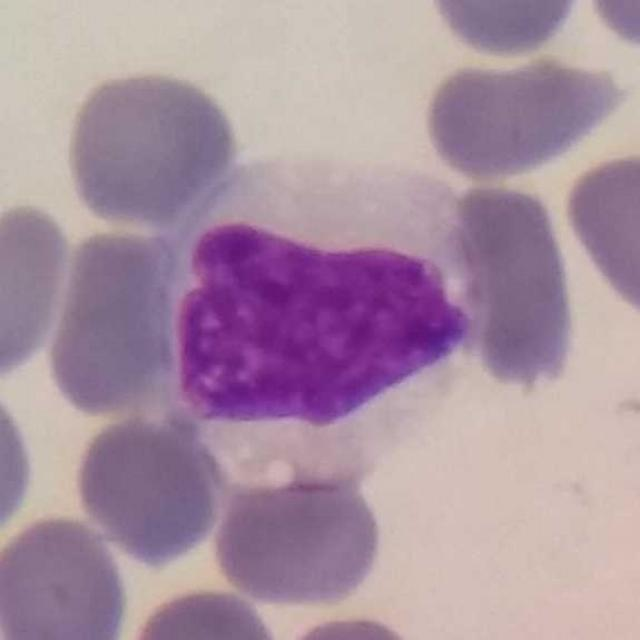mono: (158, 155, 493, 492)
